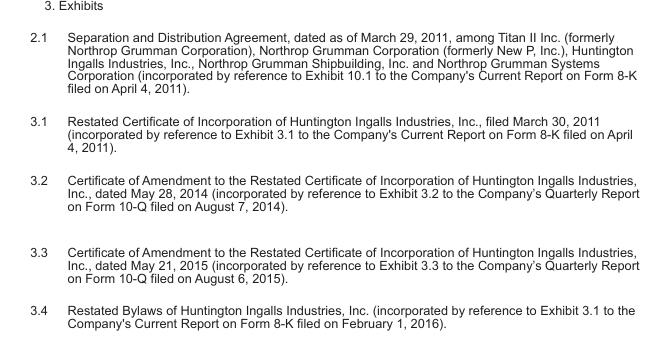table: (29, 29, 638, 329)
table column: (56, 29, 638, 329), (29, 29, 56, 329)
table row: (29, 29, 638, 104), (29, 162, 638, 228), (29, 228, 638, 293), (29, 104, 638, 162), (29, 293, 638, 329)
